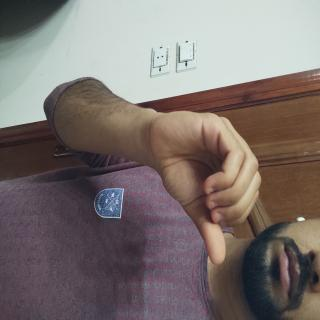WAW: (78, 63, 201, 238)
